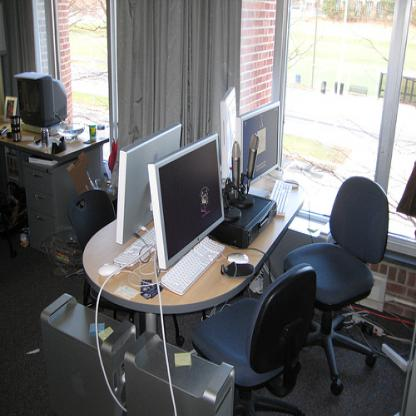chair: (281, 175, 390, 396), (191, 264, 318, 415), (64, 188, 147, 332)
tvmonitor: (148, 133, 226, 271), (116, 124, 181, 245), (237, 98, 284, 188), (15, 72, 68, 132), (218, 89, 239, 180)
